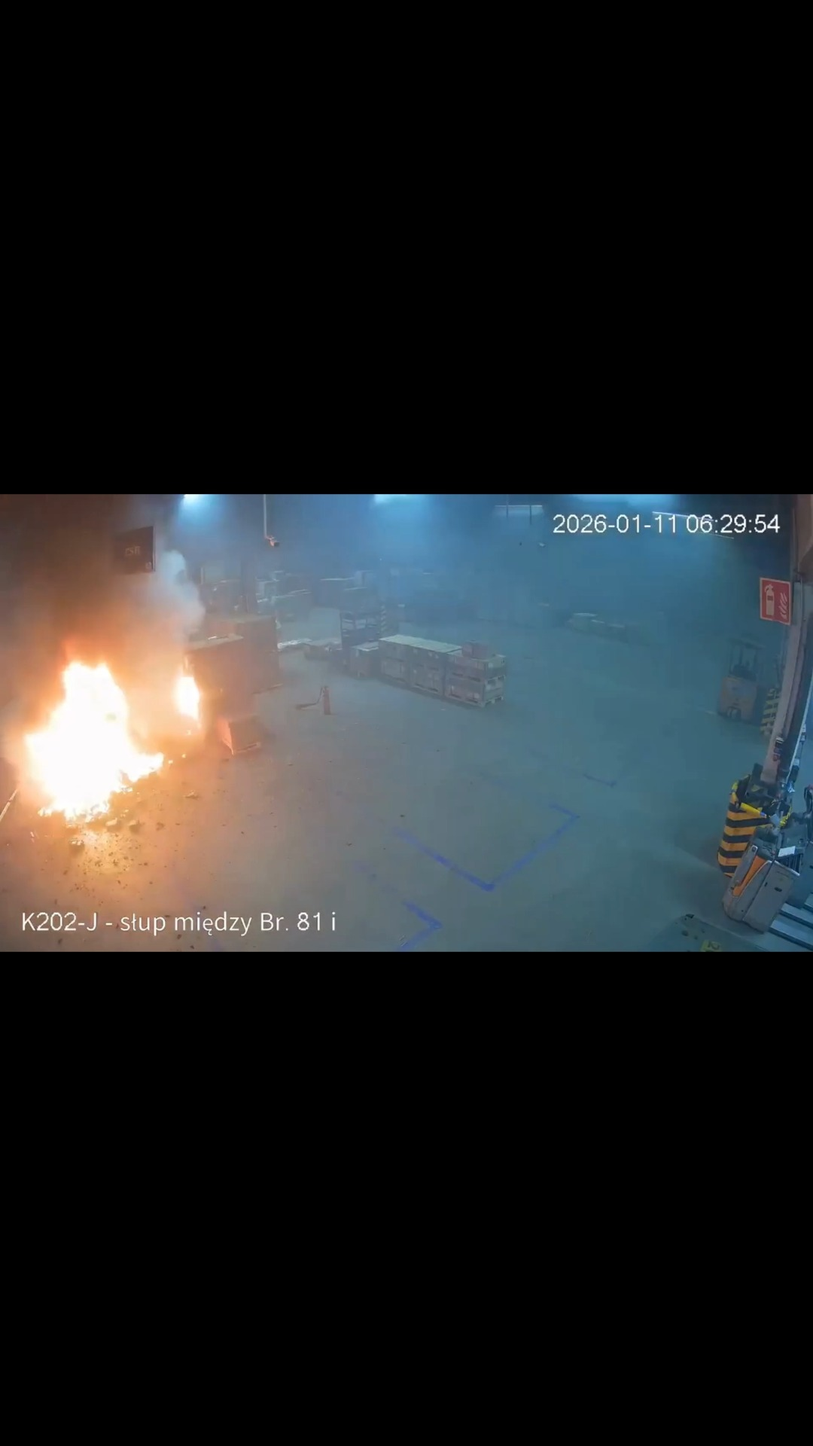fire: (22, 641, 171, 828), (170, 651, 208, 739)
smoke: (1, 499, 224, 708)
